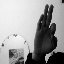f: (33, 3, 59, 53)
